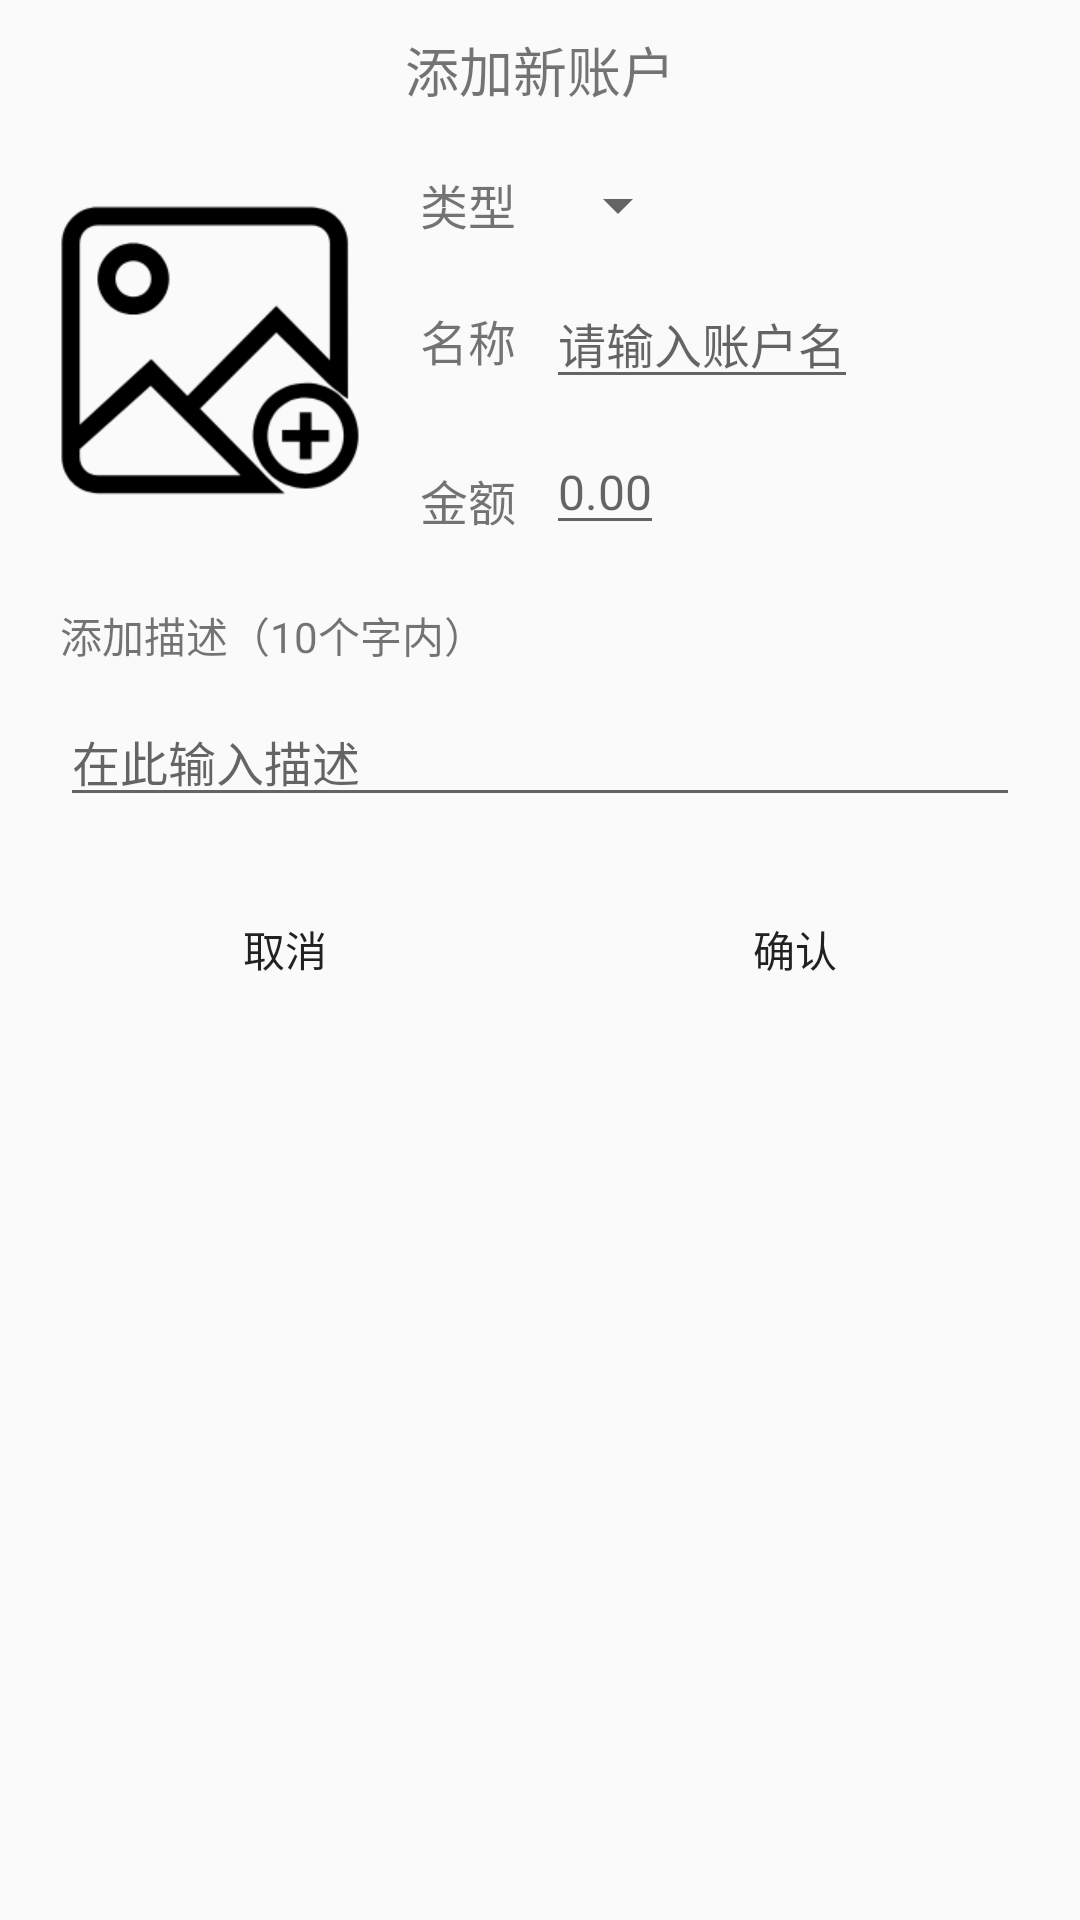

Screen size 1080px×1920px. Icon name, then its center in pixels as (x,y):
bill add pic: (210,350)
